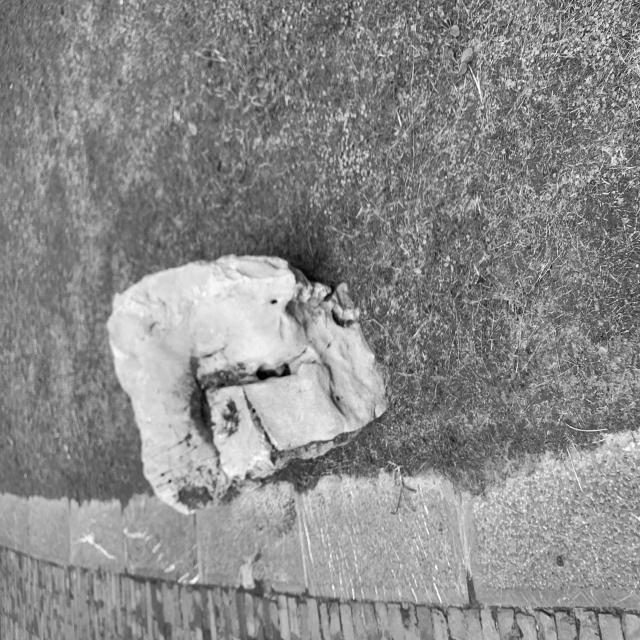Stone: (107, 255, 385, 513)
